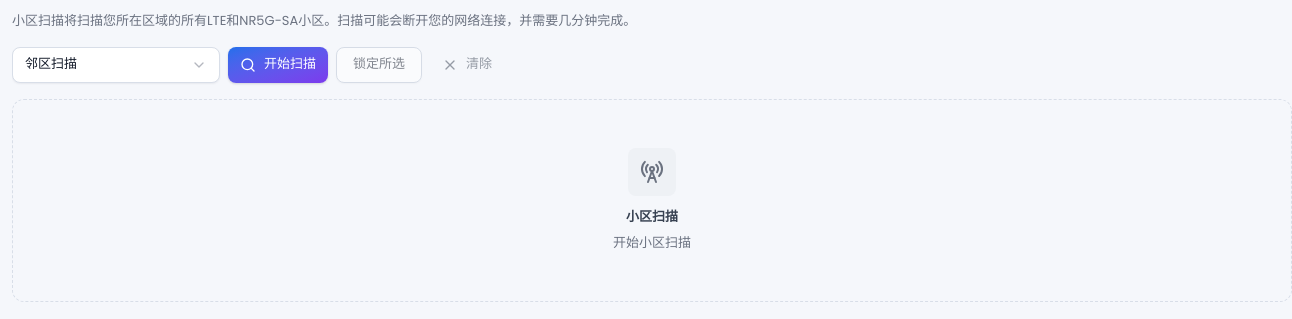
Scenario: ScanCard › pending → 模块尚未就绪提示,不渲染结果表
Click the button "开始扫描" at point(278, 65), box [228, 47, 328, 83]
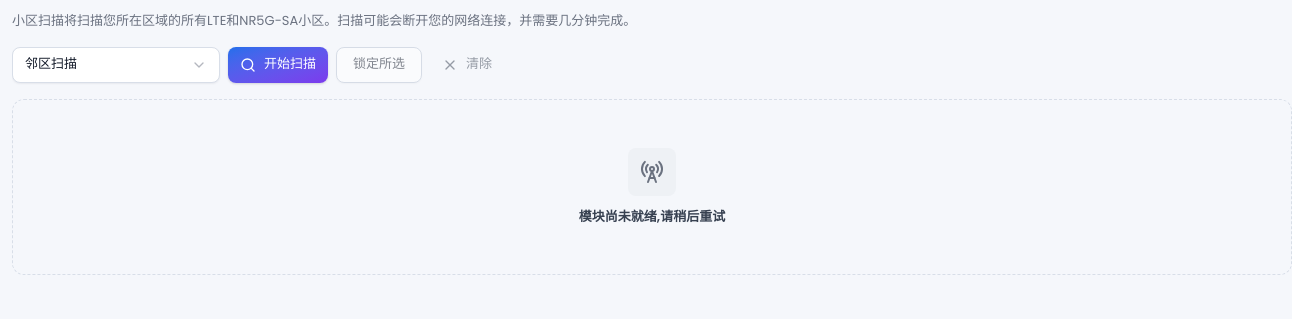
Expected: the text "模块尚未就绪,请稍后重试" is shown, [579, 208, 725, 226]
